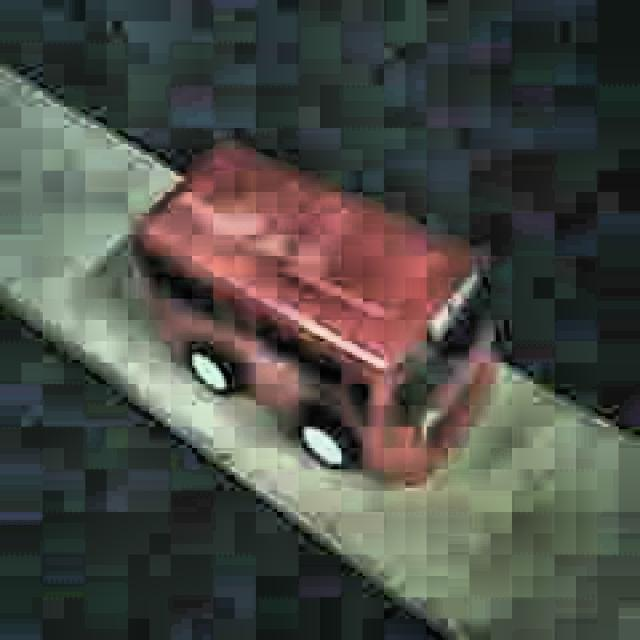bus: (127, 139, 495, 488)
